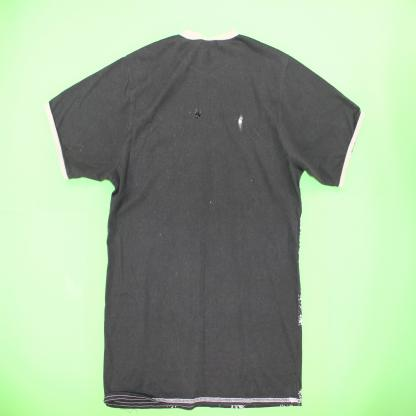stain: (192, 105, 205, 123), (237, 109, 245, 133)
